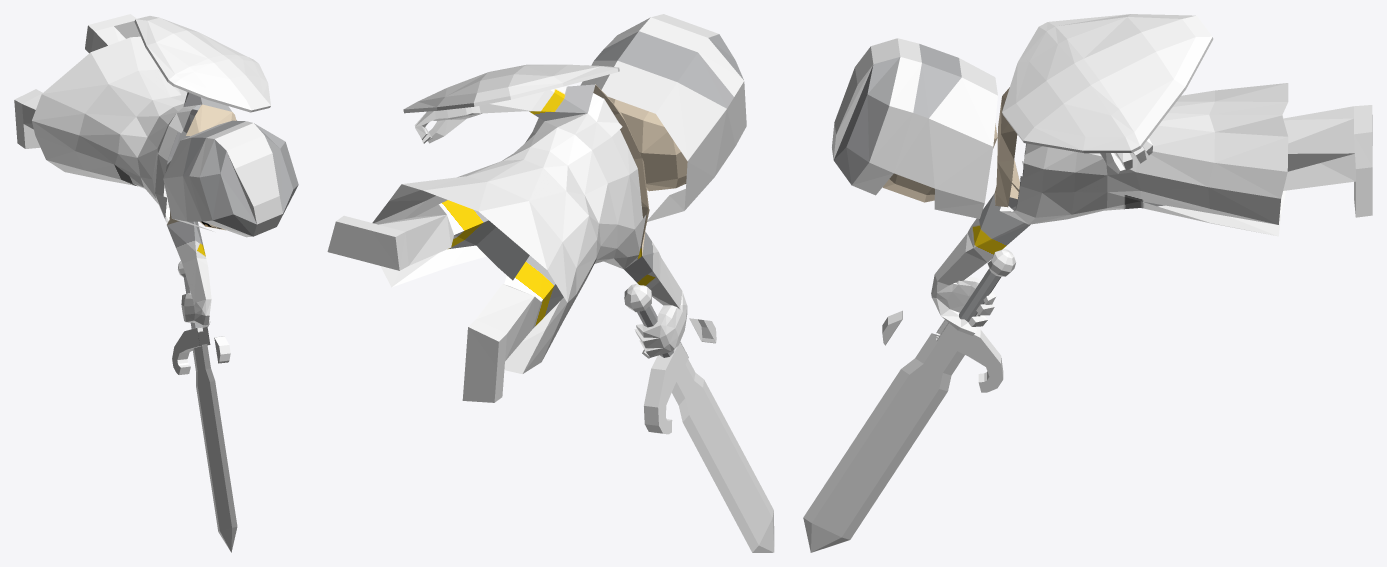
File: knight_heroic.obj
3 renders of one model, left to right at view 1: azimuth 30°, elevation 25°; view 2: azimuth 150°, elevation 25°; view 3: azimuth 270°, elevation 25°, orthographic. The views are drawn at different scales.
Parts seen in each view (by area): view 1: knight; view 2: knight; view 3: knight.
Part boxes in pixels (x1,y1,x2,y2): knight: [14, 14, 298, 552]; knight: [327, 14, 774, 552]; knight: [803, 14, 1372, 552].
Bounding box in the file's own units: 4.43 × 10.33 × 9.37.
